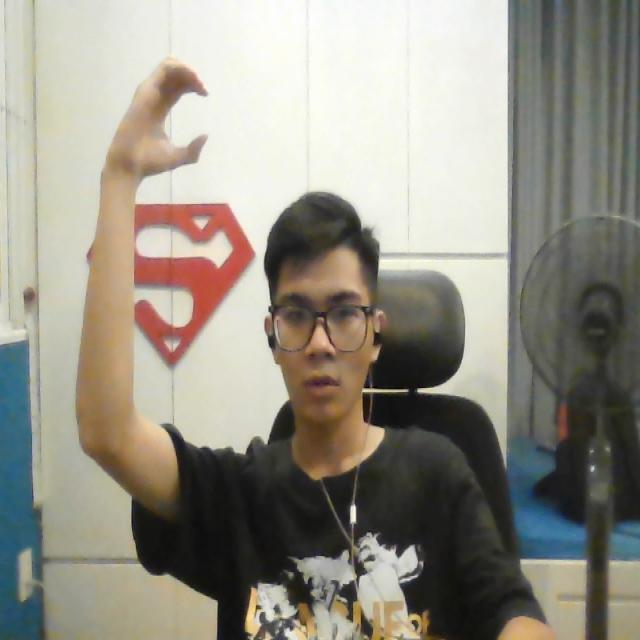C: (98, 44, 217, 182)
